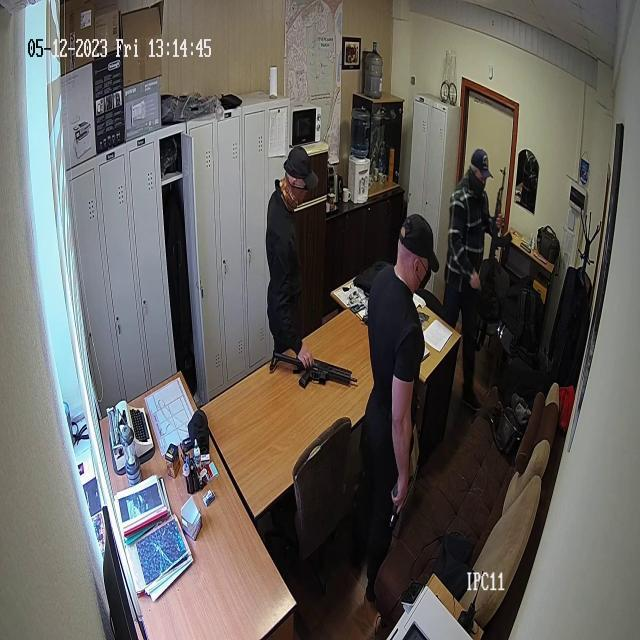pistol: (270, 348, 360, 390), (488, 168, 510, 300), (388, 480, 405, 532)
